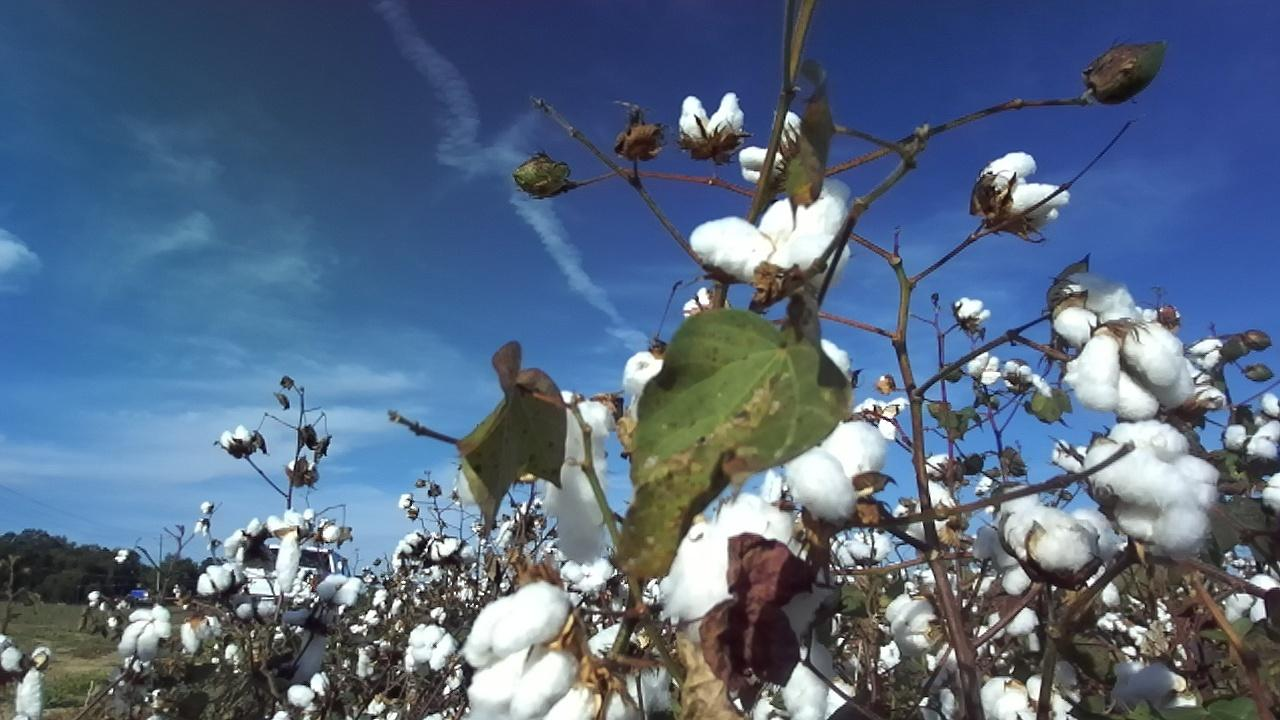cotton_ready: (460, 390, 611, 567), (1050, 265, 1193, 418), (1084, 421, 1222, 555), (788, 339, 885, 518), (689, 175, 849, 282), (662, 495, 794, 620), (468, 579, 579, 720), (1004, 495, 1117, 574), (738, 630, 835, 720), (980, 150, 1068, 229), (548, 670, 642, 720), (741, 109, 802, 179), (1111, 659, 1192, 704), (681, 90, 744, 147), (888, 594, 943, 654), (622, 350, 666, 415), (982, 677, 1039, 720)
